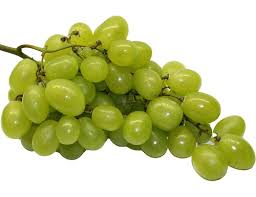Green grapes: (1, 15, 256, 181)
